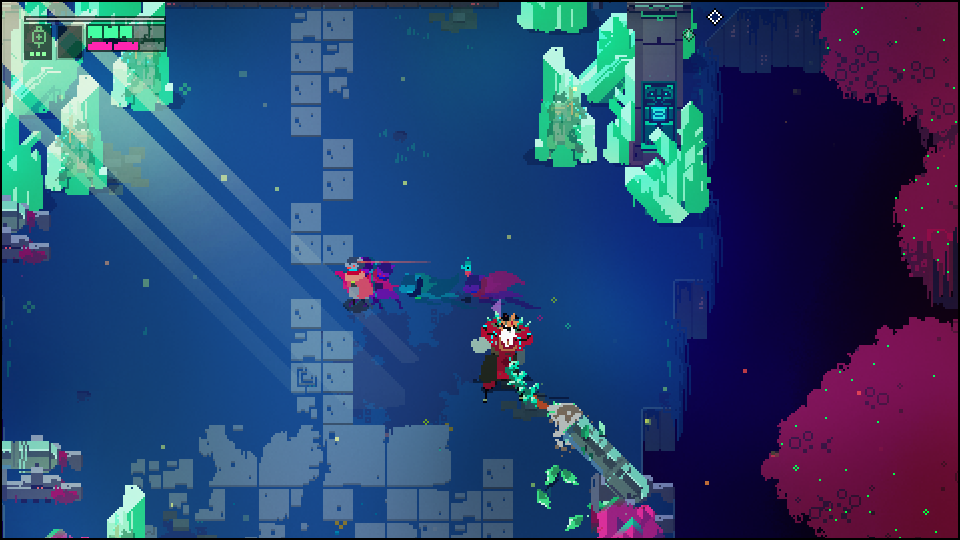hanged_man: (468, 310, 553, 415)
player: (338, 251, 377, 312)
